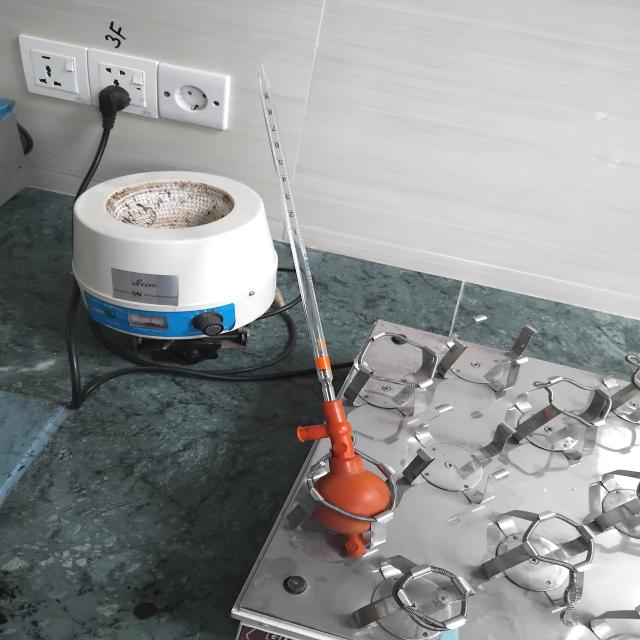Volumetric_Pipet: (227, 56, 416, 563)
